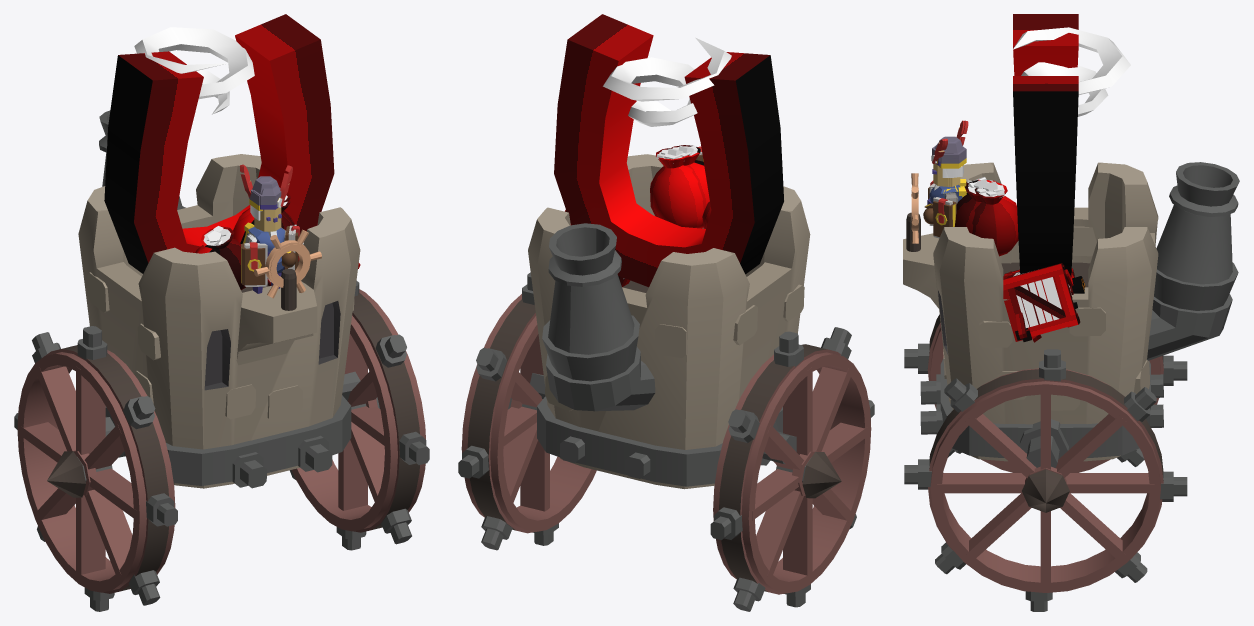
File: Mob_SupportMagnet.glb
3 renders of one model, left to right at view 1: azimuth 30°, elevation 25°; view 2: azimuth 150°, elevation 25°; view 3: azimuth 270°, elevation 25°, orthographic. The views are drawn at different scales.
Visible parts, largest first — view 1: Cube.638, Rad.044, Wanderburg_tf_Magnet_002, Rad.044 (1), Wanderburg_Models_tf_Stun_001, Gold (1), Body.019, ARM.044, BASE.070; view 2: Cube.638, Wanderburg_tf_Magnet_002, Rad.044, Rad.044 (1), Wanderburg_Models_tf_Stun_001, Gold.001, Gold; view 3: Cube.638, Rad.044 (1), Wanderburg_tf_Magnet_002, Cube.029, Wanderburg_Models_tf_Stun_001, Rad.044, Gold.001, BASE.076, Gold, Body.023.
Boxes of the visible parts, x1=… form: Cube.638: x1=78, y1=110, x2=360, y2=488; Rad.044: x1=14, y1=326, x2=177, y2=611; Wanderburg_tf_Magnet_002: x1=104, y1=14, x2=334, y2=273; Rad.044 (1): x1=289, y1=281, x2=429, y2=550; Wanderburg_Models_tf_Stun_001: x1=134, y1=27, x2=254, y2=114; Gold (1): x1=195, y1=226, x2=245, y2=289; Body.019: x1=253, y1=186, x2=282, y2=231; ARM.044: x1=242, y1=243, x2=267, y2=286; BASE.070: x1=251, y1=228, x2=296, y2=293; Cube.638: x1=528, y1=154, x2=810, y2=489; Wanderburg_tf_Magnet_002: x1=554, y1=14, x2=783, y2=287; Rad.044: x1=710, y1=327, x2=874, y2=611; Rad.044 (1): x1=458, y1=272, x2=596, y2=550; Wanderburg_Models_tf_Stun_001: x1=603, y1=37, x2=731, y2=126; Gold.001: x1=650, y1=147, x2=703, y2=227; Gold: x1=672, y1=145, x2=709, y2=228; Cube.638: x1=903, y1=162, x2=1239, y2=467; Rad.044 (1): x1=904, y1=349, x2=1187, y2=611; Wanderburg_tf_Magnet_002: x1=1013, y1=14, x2=1078, y2=276; Cube.029: x1=1003, y1=263, x2=1080, y2=341; Wanderburg_Models_tf_Stun_001: x1=1013, y1=27, x2=1130, y2=116; Rad.044: x1=904, y1=314, x2=1187, y2=472; Gold.001: x1=972, y1=181, x2=1018, y2=256; BASE.076: x1=931, y1=179, x2=966, y2=238; Gold: x1=954, y1=179, x2=992, y2=233; Body.023: x1=934, y1=120, x2=968, y2=190.
Bounding box in the file's own units: 12.89 × 18.58 × 11.39.
19 materials, 14 textured.
